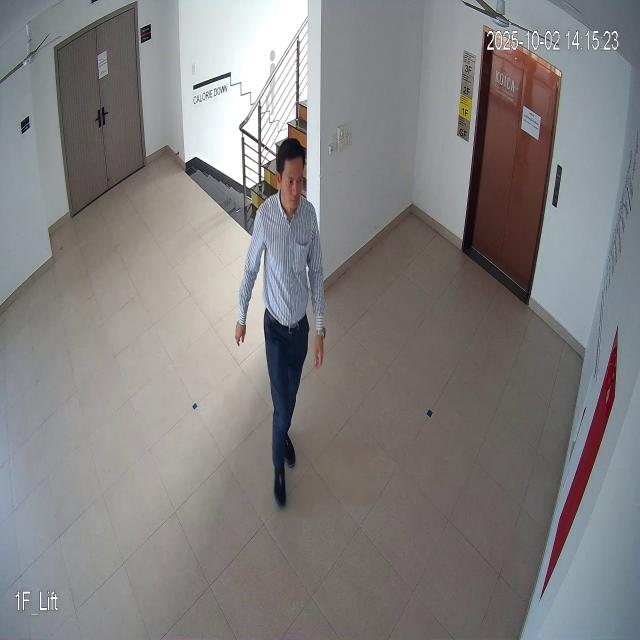face: (277, 136, 307, 212)
